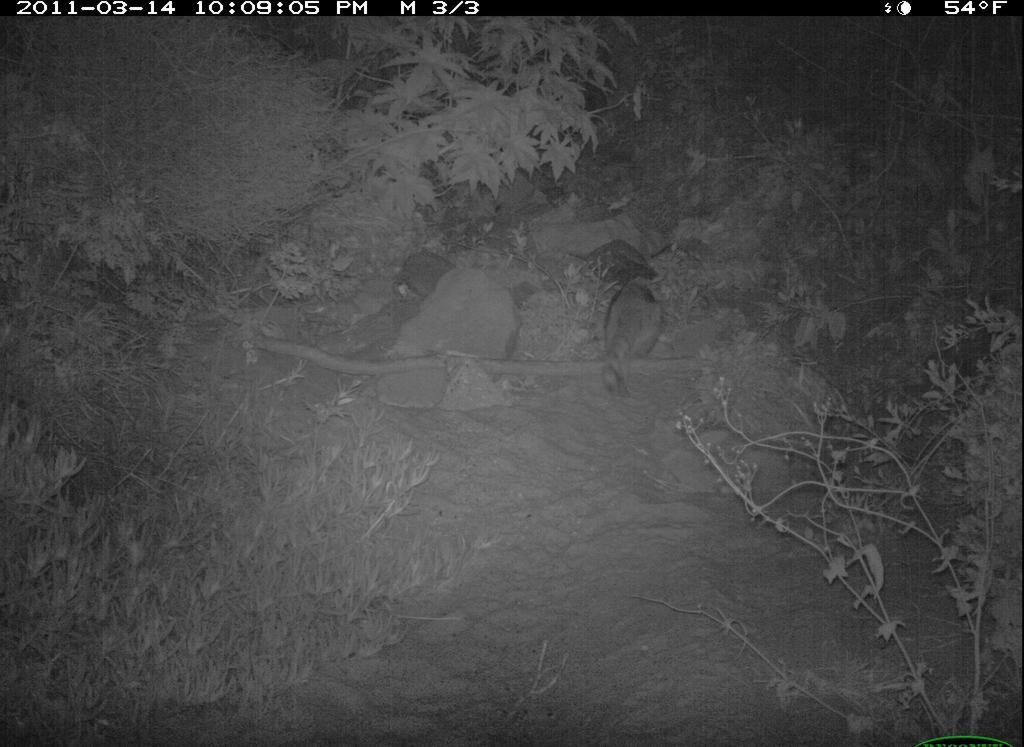raccoon: (591, 271, 671, 417)
